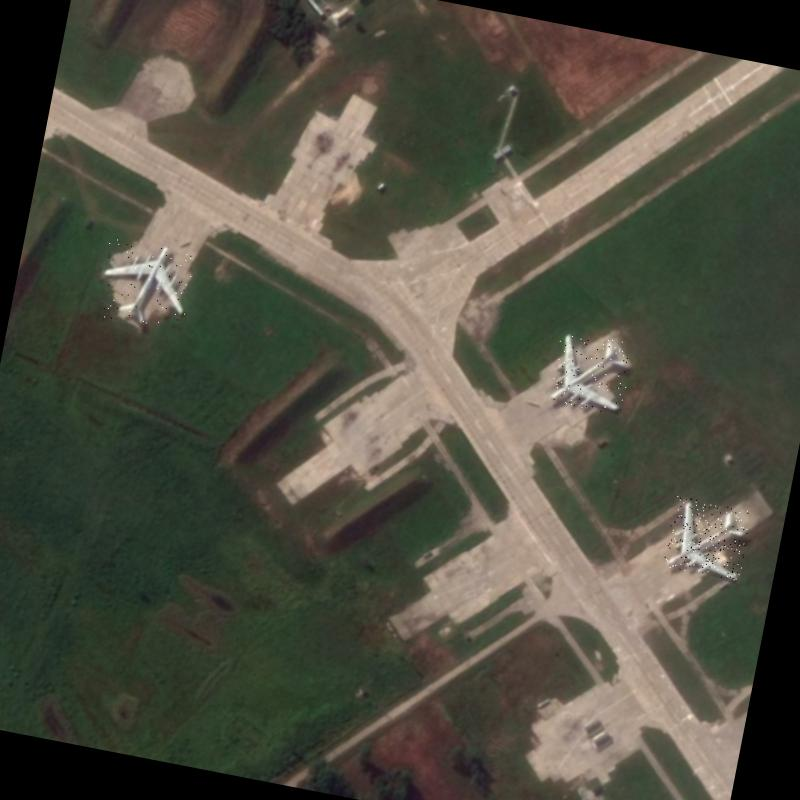A17: (94, 232, 198, 332), (662, 495, 752, 581), (548, 330, 634, 416)
